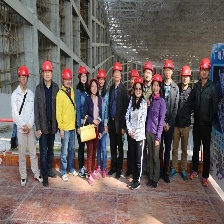helmet: (200, 58, 213, 71), (61, 67, 73, 81), (162, 60, 177, 71), (143, 60, 156, 72), (41, 61, 53, 74), (152, 74, 165, 86), (112, 60, 124, 71), (17, 66, 29, 77), (180, 67, 193, 77), (130, 70, 141, 80), (99, 67, 108, 79), (78, 66, 88, 75), (134, 76, 144, 84)
person: (34, 59, 60, 185), (12, 66, 38, 188), (193, 56, 216, 185), (57, 68, 80, 177), (108, 61, 127, 184), (174, 67, 194, 181), (82, 80, 104, 178), (127, 74, 145, 190), (147, 73, 165, 185), (164, 57, 179, 184), (75, 63, 90, 183), (98, 70, 110, 177)
